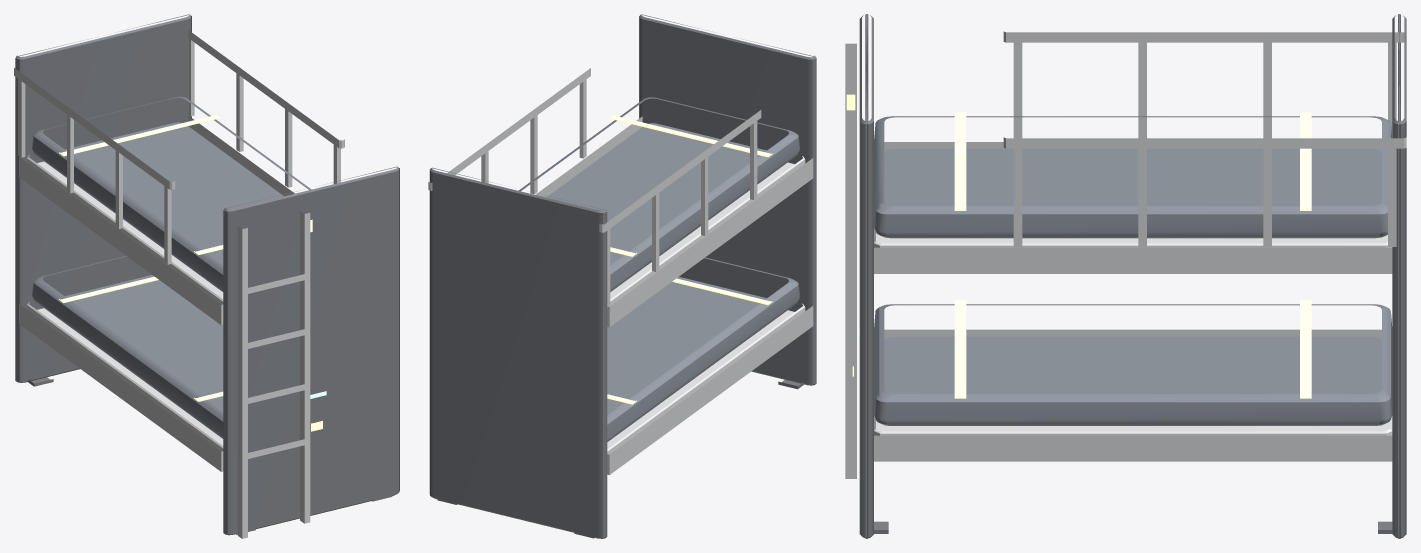
The model's file is iter_05.glb.
3 renders of one model, left to right at view 1: azimuth 30°, elevation 25°; view 2: azimuth 150°, elevation 25°; view 3: azimuth 270°, elevation 25°, orthographic. The views are drawn at different scales.
Parts seen in each view (by area): view 1: End_Frames, Mattress_Up, Mattress_Lo, Side_Rails, Ladder, Guard_Rails, Decks, Mattress_Straps; view 2: End_Frames, Mattress_Up, Mattress_Lo, Side_Rails, Guard_Rails, Decks, Mattress_Straps; view 3: Mattress_Lo, Mattress_Up, Side_Rails, Guard_Rails, End_Frames, Decks, Ladder, Mattress_Straps.
Boxes of the visible parts, box(x1,y1,x2,y2) form: End_Frames: box(15, 14, 399, 535); Mattress_Up: box(32, 96, 311, 291); Mattress_Lo: box(32, 256, 223, 438); Side_Rails: box(19, 115, 294, 471); Ladder: box(237, 211, 310, 538); Guard_Rails: box(14, 30, 344, 264); Decks: box(27, 155, 223, 451); Mattress_Straps: box(59, 114, 223, 401); End_Frames: box(429, 14, 816, 538); Mattress_Up: box(518, 97, 800, 291); Mattress_Lo: box(607, 257, 799, 441); Side_Rails: box(535, 116, 813, 474); Guard_Rails: box(428, 68, 761, 307); Decks: box(607, 156, 805, 454); Mattress_Straps: box(607, 115, 772, 404); Mattress_Lo: box(874, 304, 1392, 425); Mattress_Up: box(874, 116, 1391, 238); Side_Rails: box(874, 142, 1392, 461); Guard_Rails: box(1003, 31, 1406, 246); End_Frames: box(859, 14, 1406, 538); Decks: box(874, 228, 1392, 435); Ladder: box(845, 43, 856, 478); Mattress_Straps: box(954, 112, 1311, 398).
Size of the model in its own units: 0.9 by 1.6 by 1.95.
